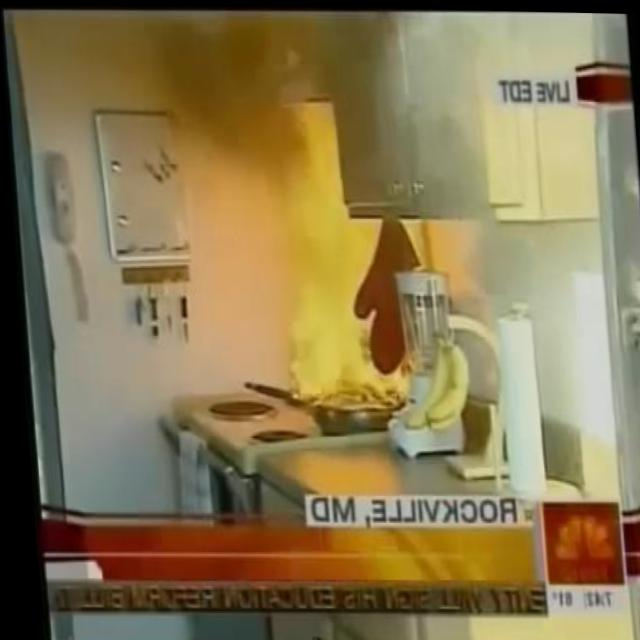fire: (264, 90, 415, 414)
